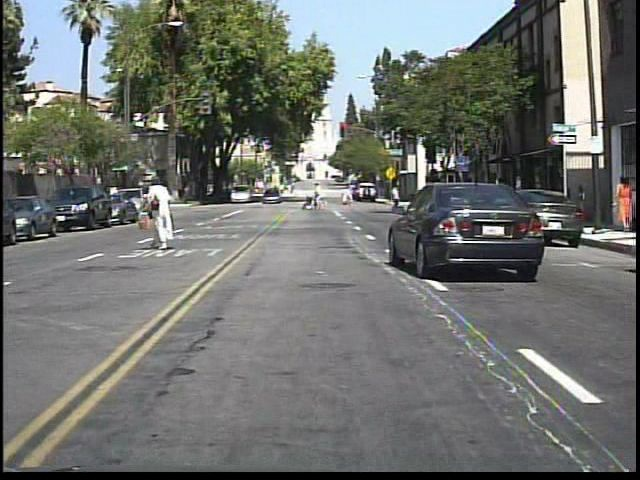person: (138, 169, 182, 258), (616, 166, 637, 235), (492, 170, 512, 220), (387, 181, 404, 212), (313, 181, 327, 211)
